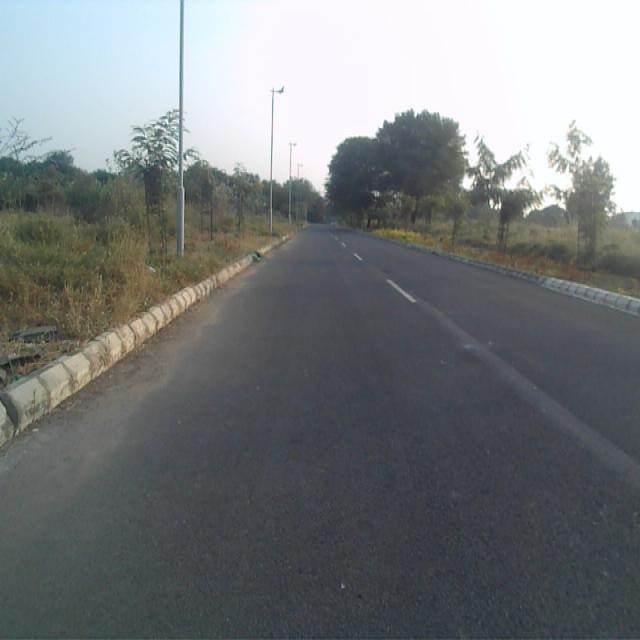lane: (0, 230, 640, 640)
